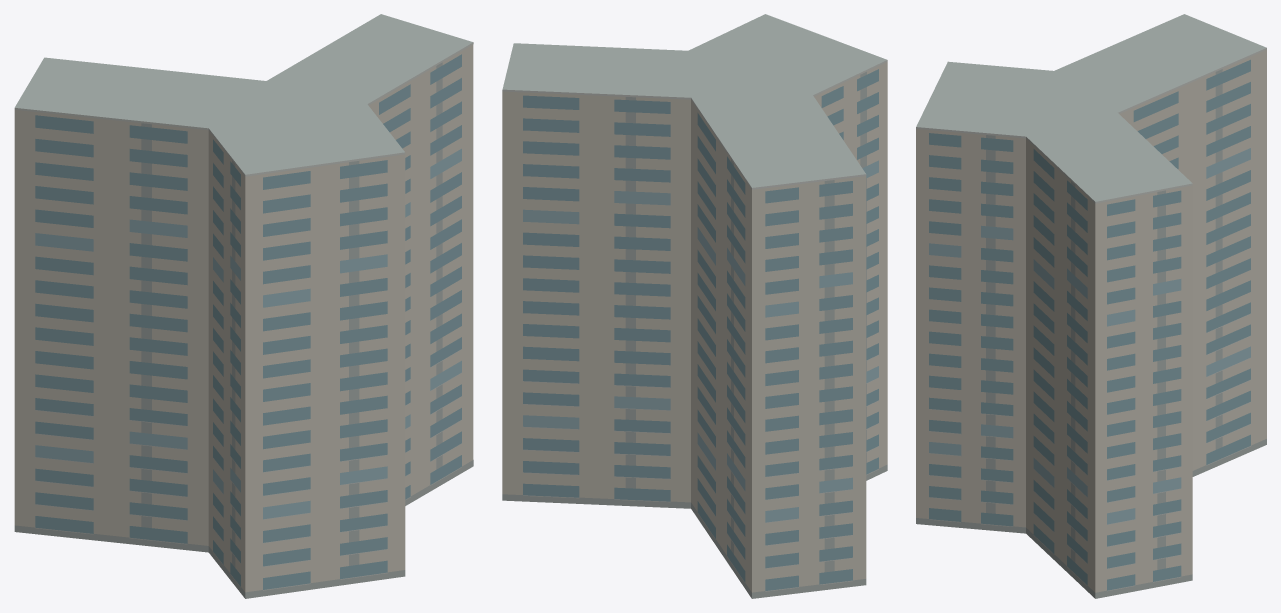
File: residential-315e1cbf-ea1f-4a01-a7d9-6874185d4b49.glb
3 renders of one model, left to right at view 1: azimuth 30°, elevation 25°; view 2: azimuth 150°, elevation 25°; view 3: azimuth 270°, elevation 25°, orthographic. The views are drawn at different scales.
Parts seen in each view (by area): view 1: residential-315e1cbf-ea1f-4a01-a7d9-6874185d4b49.tmp; view 2: residential-315e1cbf-ea1f-4a01-a7d9-6874185d4b49.tmp; view 3: residential-315e1cbf-ea1f-4a01-a7d9-6874185d4b49.tmp.
Part boxes in pixels (bbox=[...]): residential-315e1cbf-ea1f-4a01-a7d9-6874185d4b49.tmp: bbox=[14, 14, 473, 598]; residential-315e1cbf-ea1f-4a01-a7d9-6874185d4b49.tmp: bbox=[502, 14, 887, 598]; residential-315e1cbf-ea1f-4a01-a7d9-6874185d4b49.tmp: bbox=[916, 14, 1266, 598].
Size of the model in its own units: 52.79 by 52 by 41.65.
